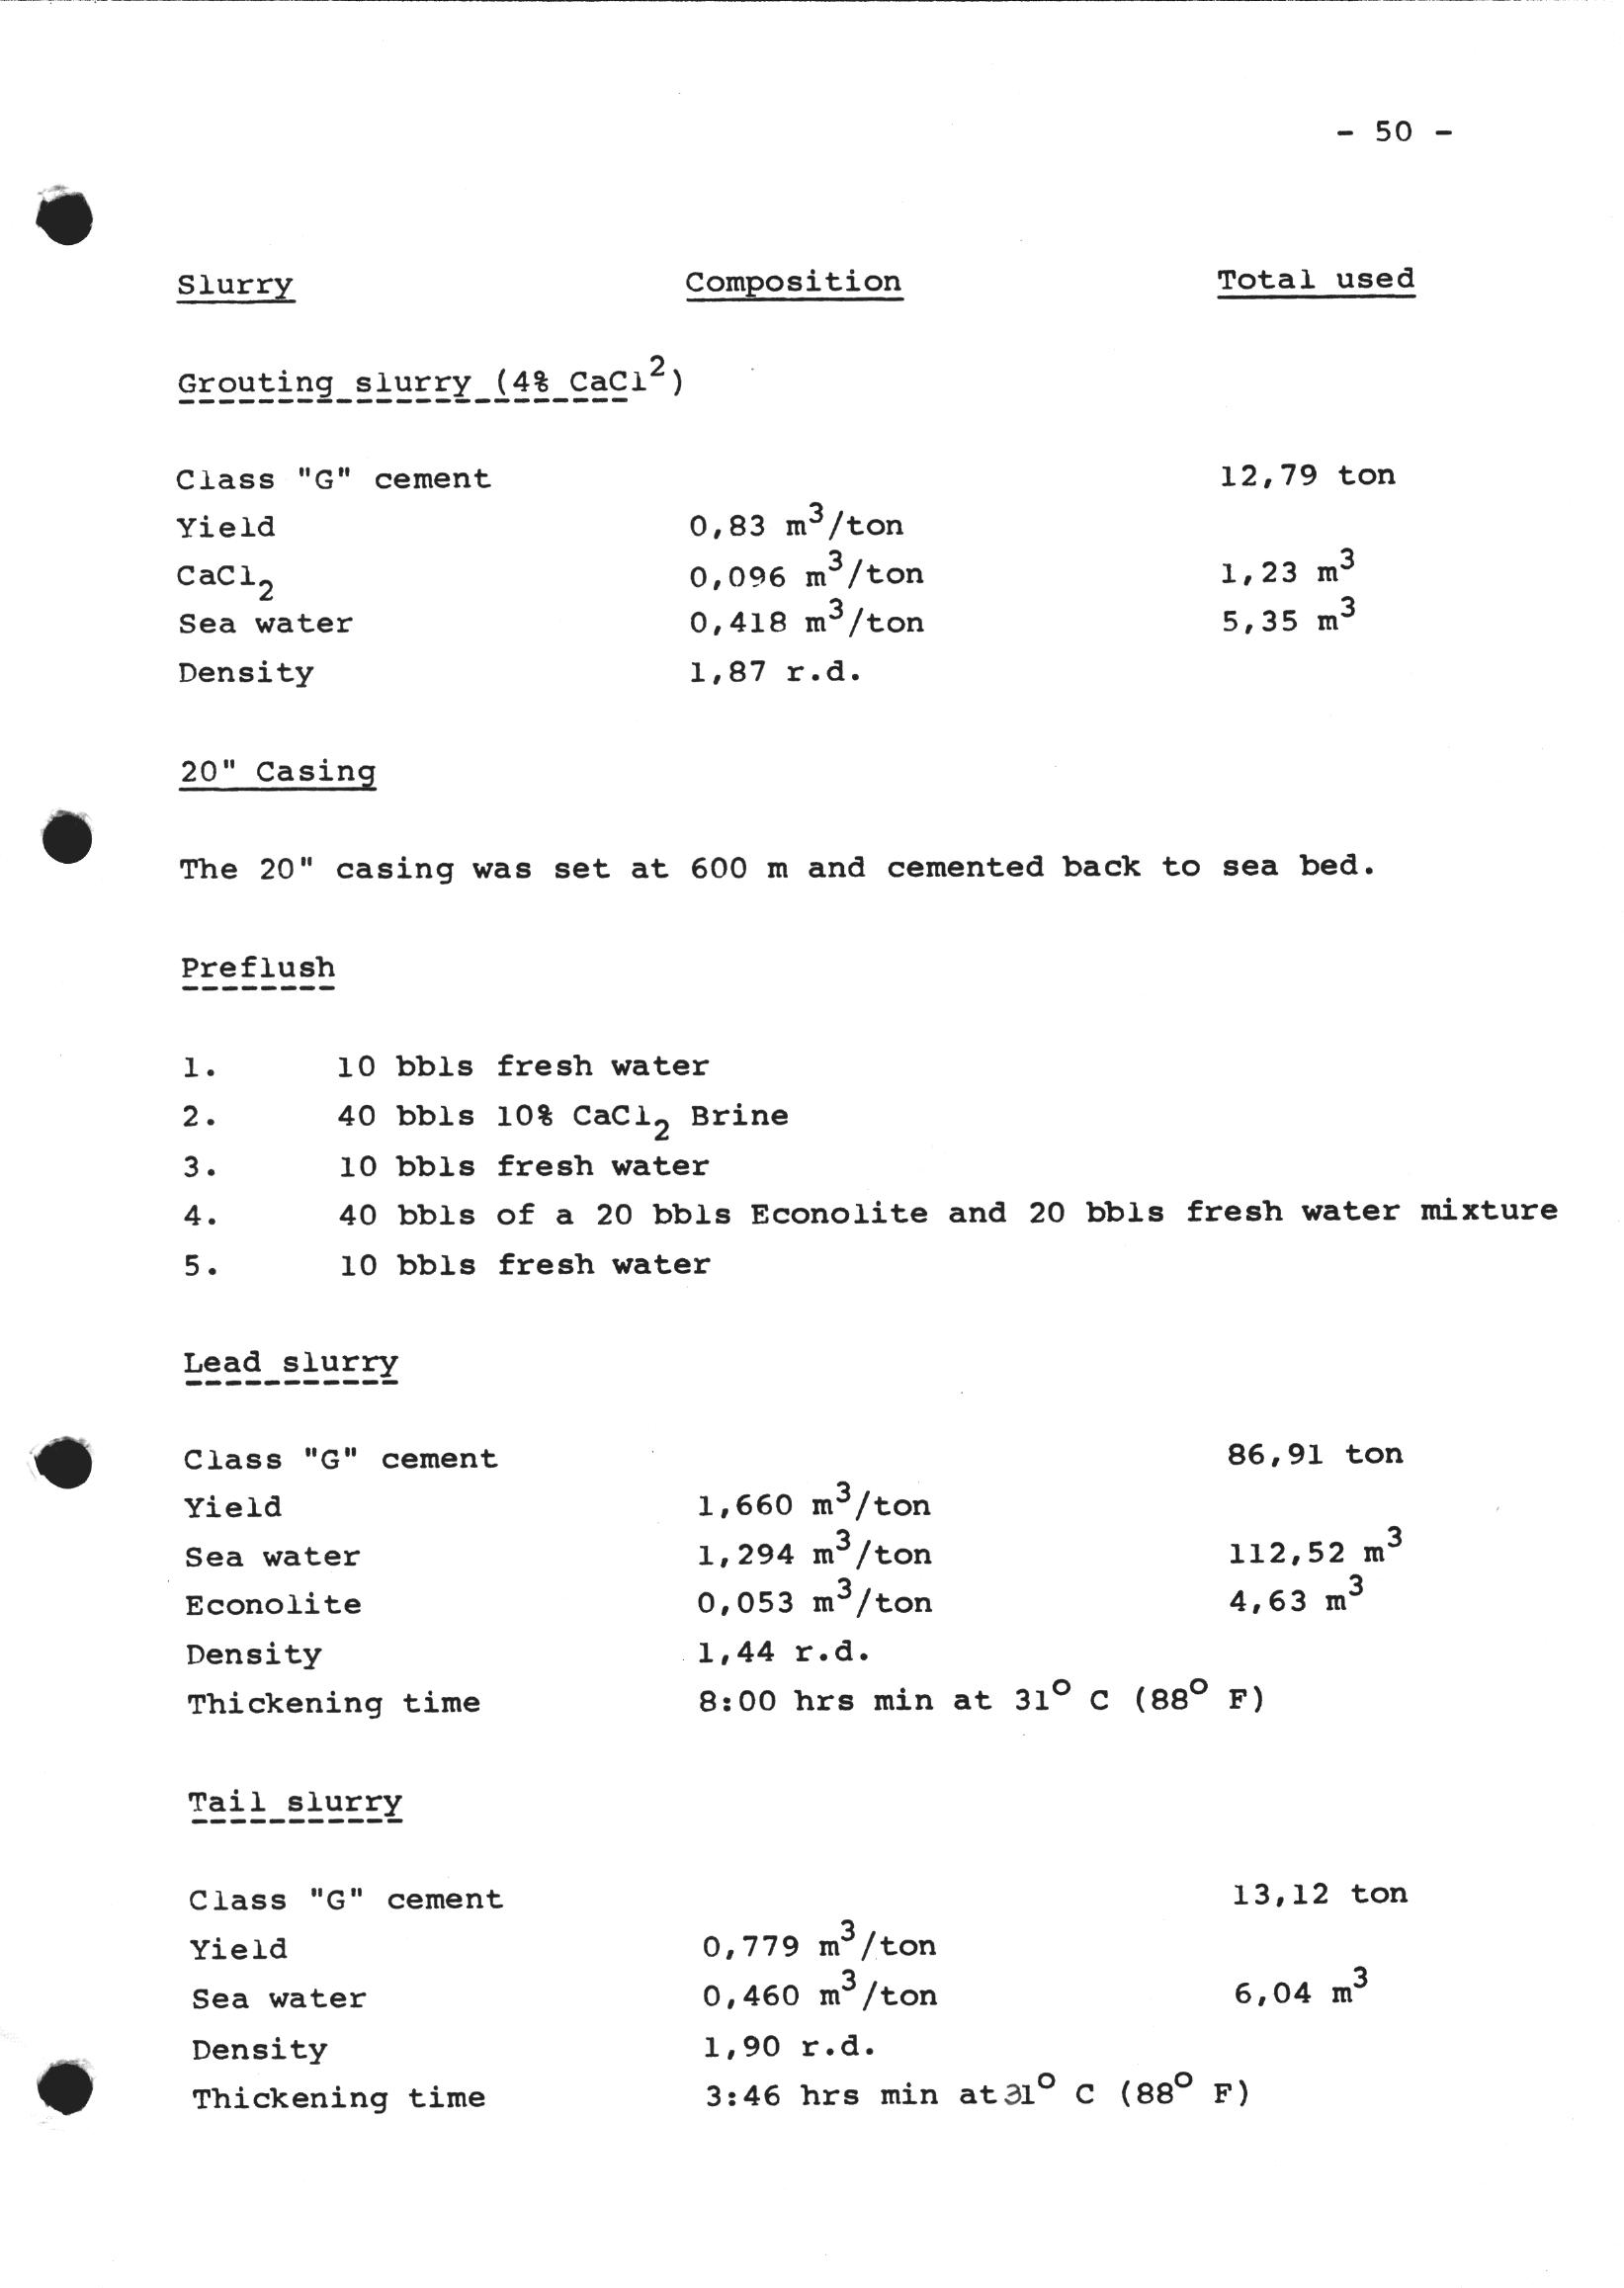table: (155, 250, 1483, 731)
text: (149, 1341, 1566, 2167), (134, 951, 1617, 1304), (160, 754, 1429, 912)
